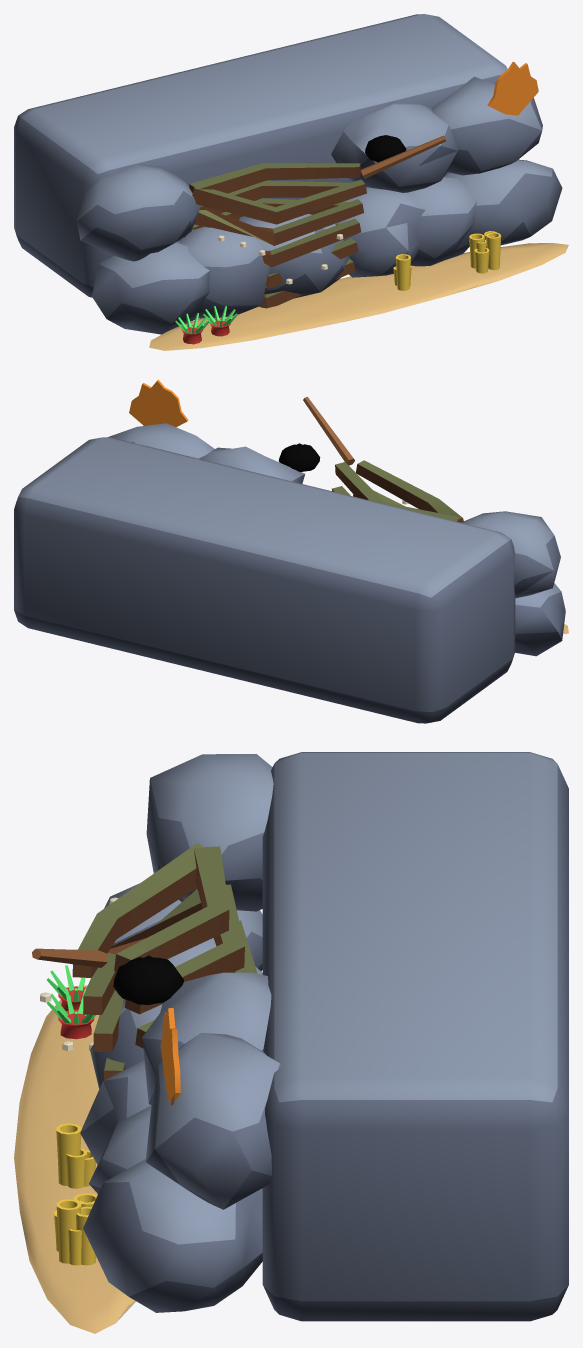
Rendered from ReefWallB.fbx.
3 views of the same model, one above another, from view 1: azimuth 30°, elevation 25°; view 2: azimuth 150°, elevation 25°; view 3: azimuth 270°, elevation 25° (orthographic). The views are drawn at different scales.
Parts seen in each view (by area): view 1: ReefWallB; view 2: ReefWallB; view 3: ReefWallB.
Part boxes in pixels (bbox=[...]): ReefWallB: bbox=[14, 14, 568, 350]; ReefWallB: bbox=[14, 379, 568, 723]; ReefWallB: bbox=[14, 752, 568, 1333].
Size of the model in its own units: 8.21 by 3.06 by 4.98.
Materials: 1 (1 with a texture image).
